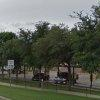Tree: (26, 10, 100, 70)
